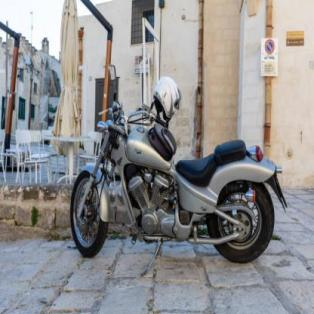Motocicleta: (61, 90, 290, 266)
